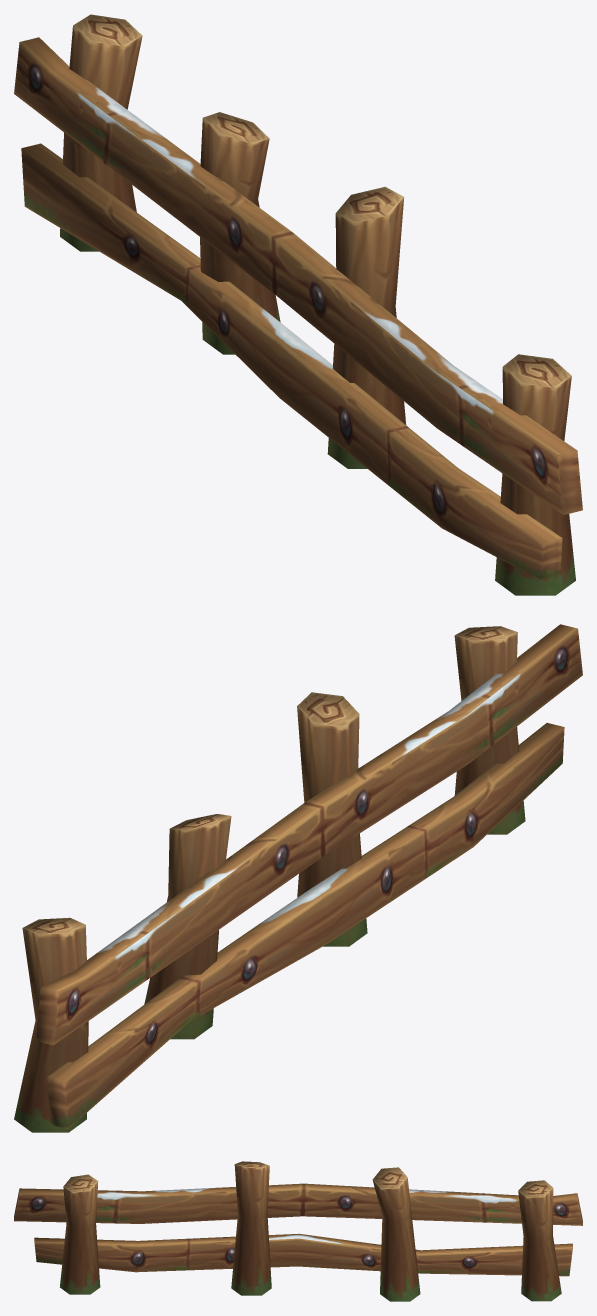
Rendered from sn_zdcj_obj02.FBX.
3 views of the same model, one above another, from view 1: azimuth 30°, elevation 25°; view 2: azimuth 150°, elevation 25°; view 3: azimuth 270°, elevation 25° (orthographic). The views are drawn at different scales.
Visible parts, largest first — view 1: snft_zhalan01; view 2: snft_zhalan01; view 3: snft_zhalan01.
Boxes of the visible parts, box(x1,y1,x2,y2) form: snft_zhalan01: box(14, 14, 582, 595); snft_zhalan01: box(14, 624, 582, 1132); snft_zhalan01: box(14, 1161, 582, 1301).
Bounding box in the file's own units: 0.386 × 0.9775 × 3.94.
